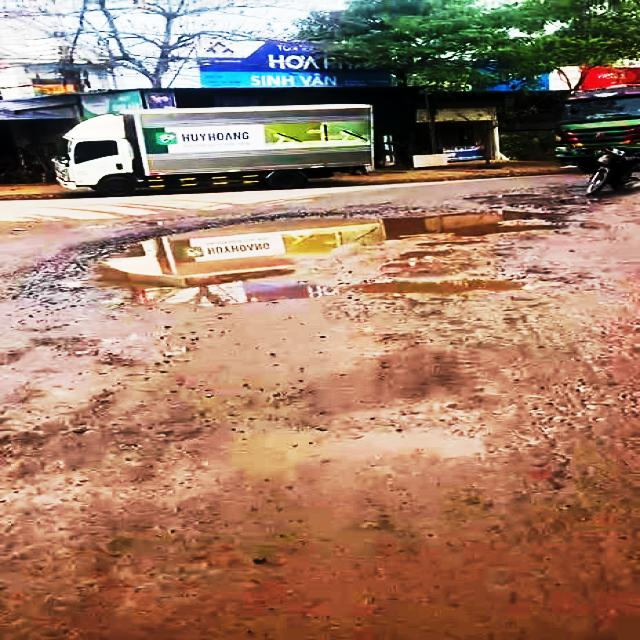pothole: (44, 204, 610, 307)
